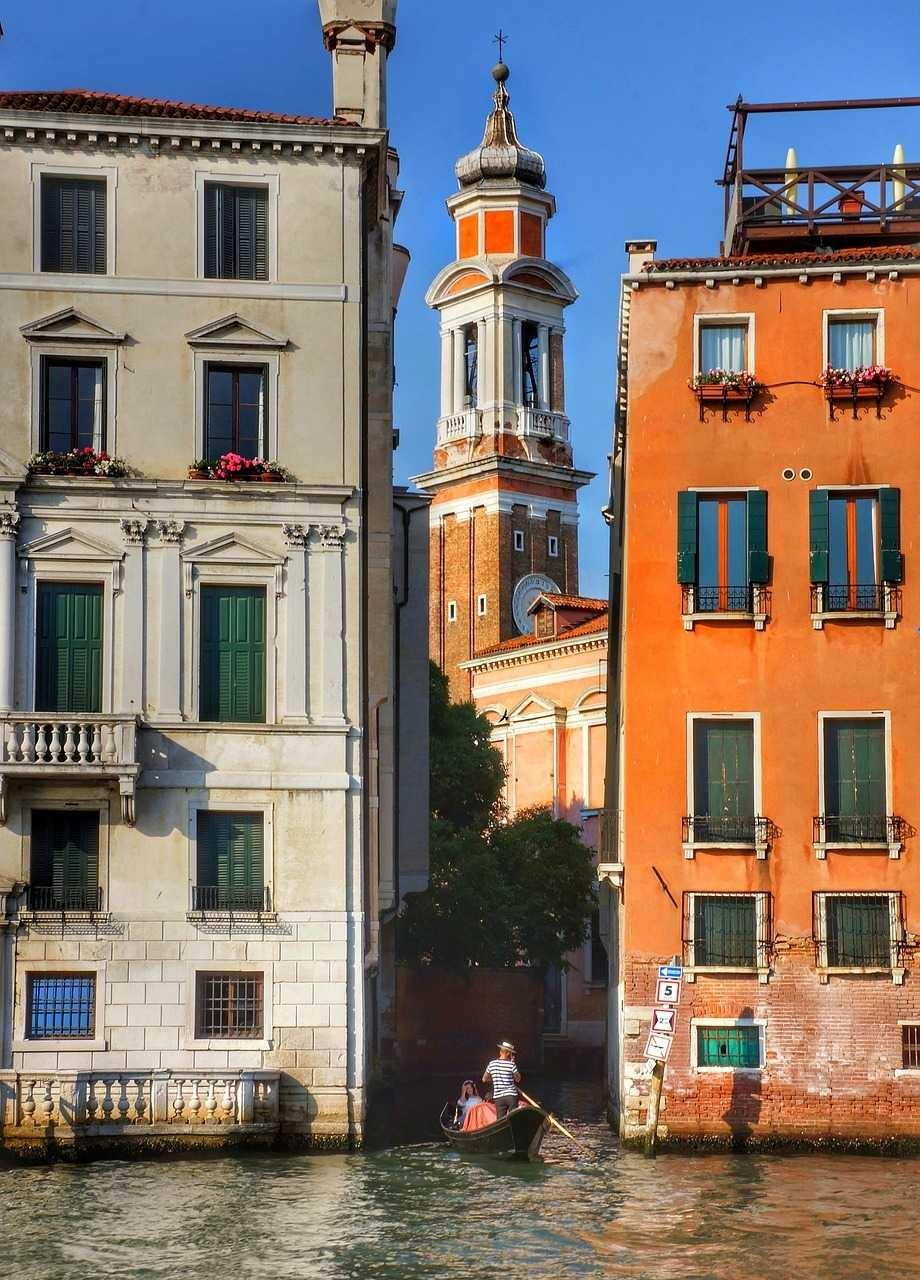kayak: (439, 1104, 549, 1161)
